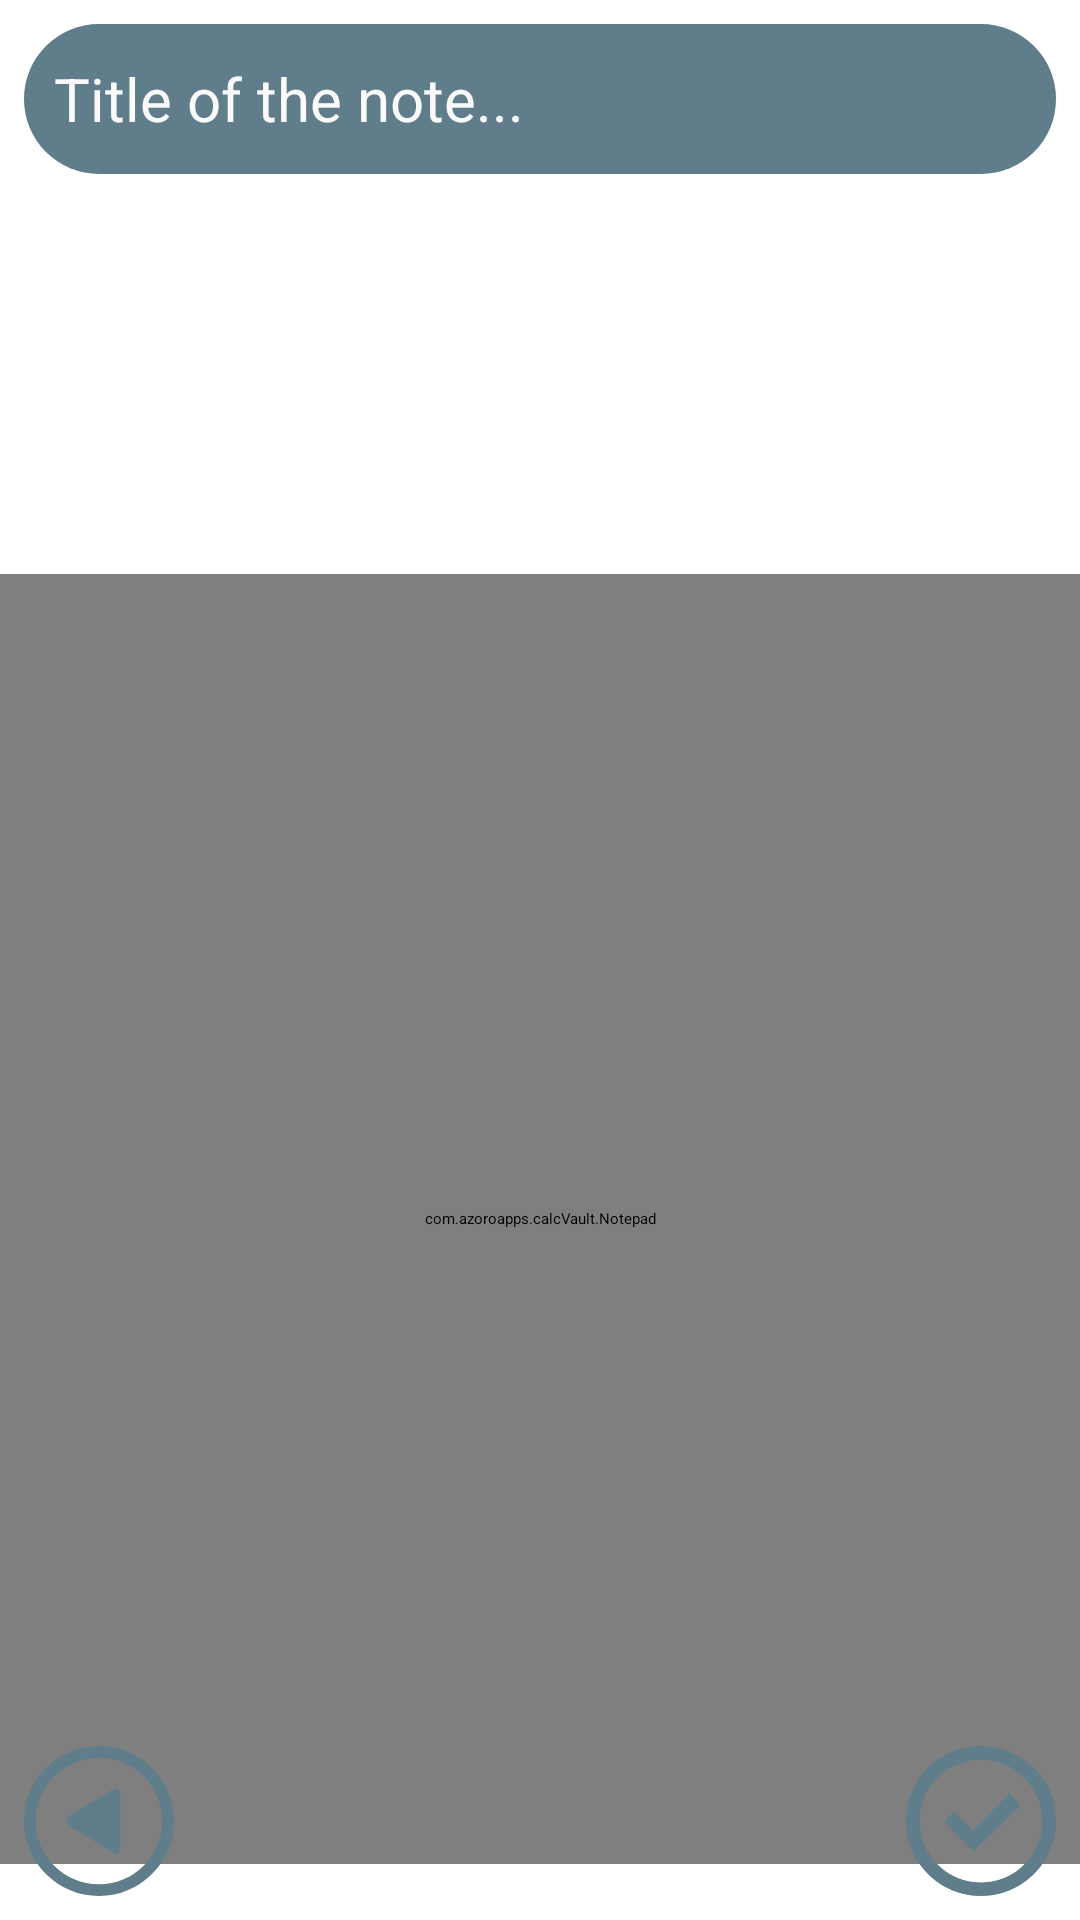

Where icons sit on this 1080px x 1920px app screen, as rect(x1, y1, x2, y2):
done: rect(906, 1746, 1056, 1896)
